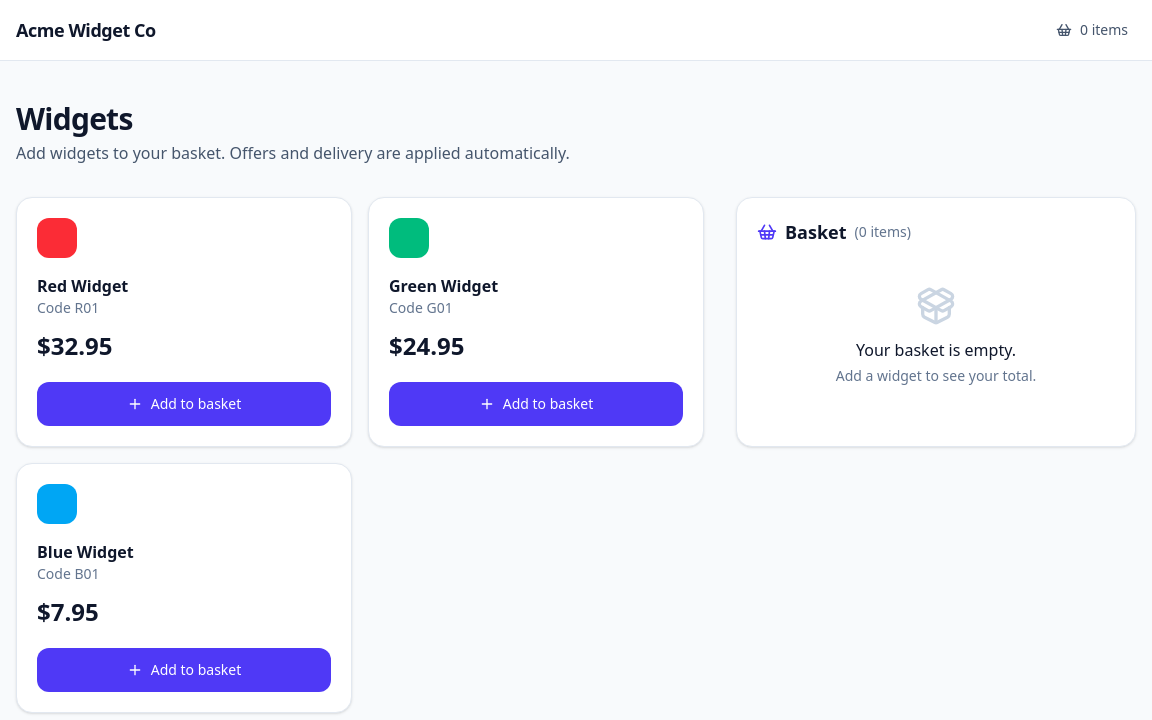
Test case: App › prices the assessment basket ["R01","R01"] at $54.37
Click the button with aria-label "Add Red Widget to basket": click(184, 404) [37,382,331,426]
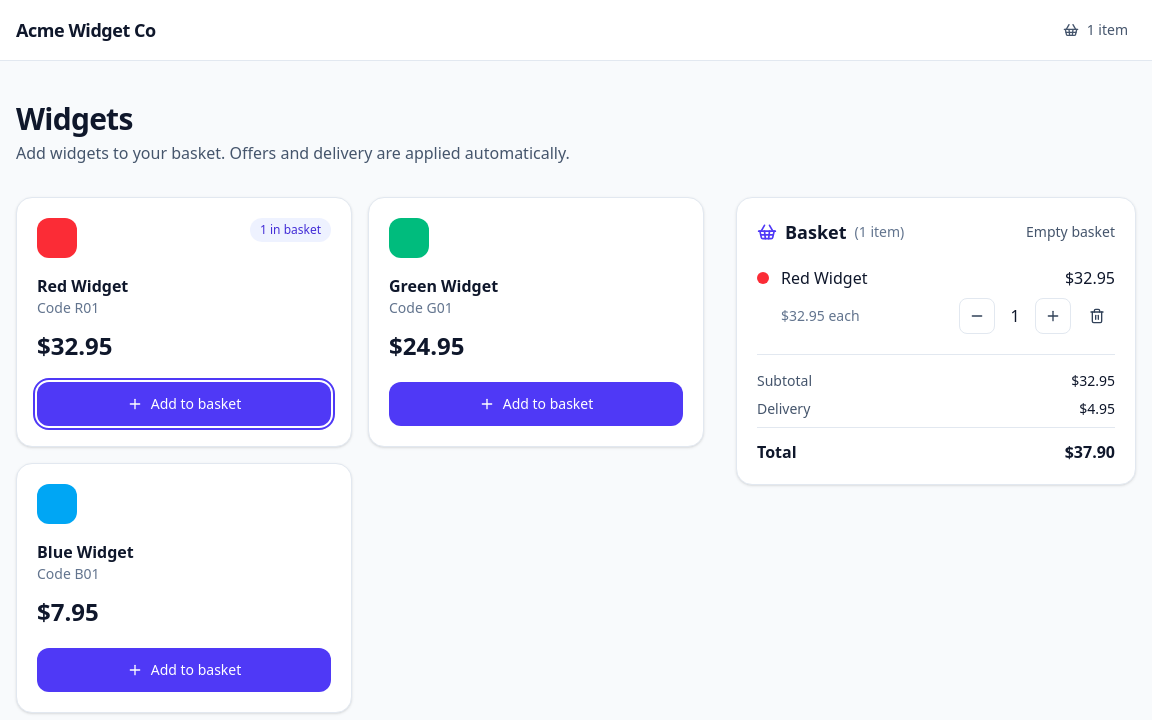
Click the button with aria-label "Add Red Widget to basket": click(184, 404) [37,382,331,426]
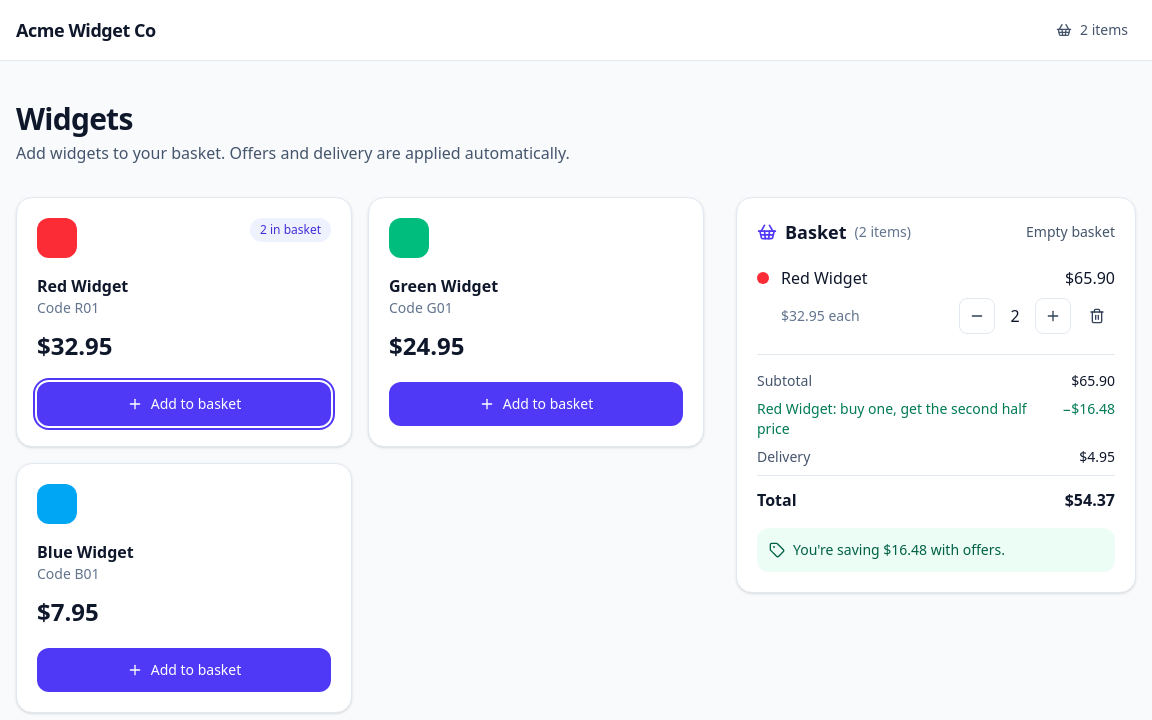
Check: the text with test id "basket-total" reads "$54.37", box [1065,489,1115,511]
